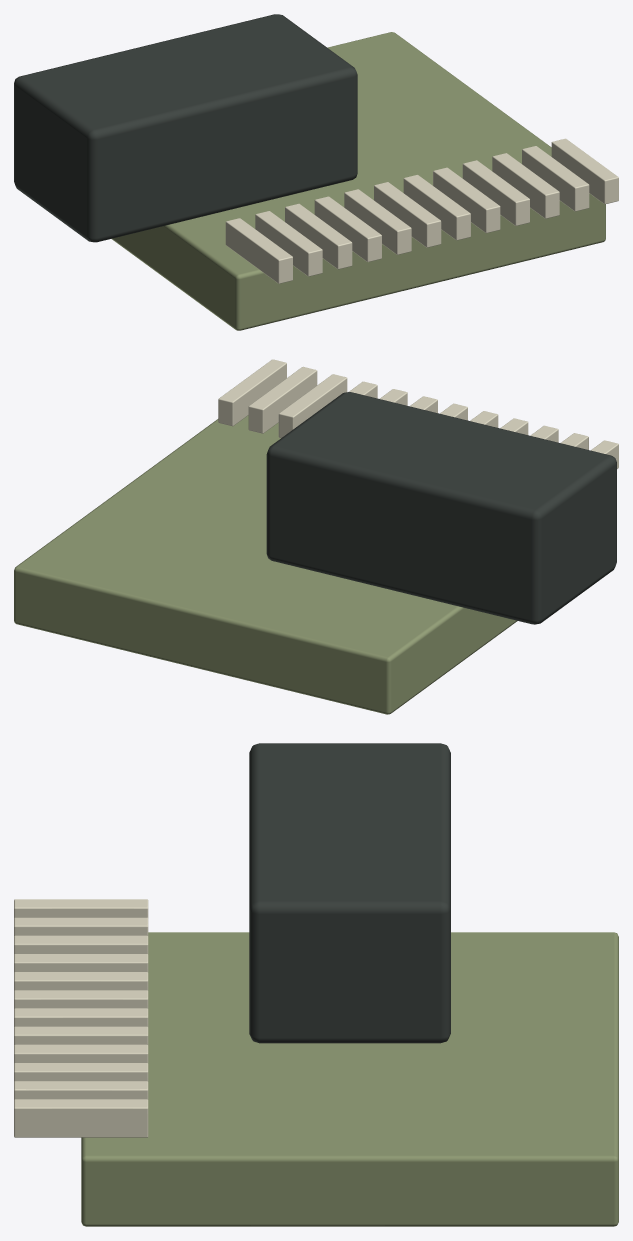
File: cpu.glb
3 renders of one model, top to bottom at view 1: azimuth 30°, elevation 25°; view 2: azimuth 150°, elevation 25°; view 3: azimuth 270°, elevation 25°, orthographic. The views are drawn at different scales.
Visible parts, largest first — view 1: processor-chip; view 2: processor-chip; view 3: processor-chip.
Part boxes in pixels (x1,y1,x2,y2): processor-chip: (14, 14, 618, 330); processor-chip: (14, 359, 618, 714); processor-chip: (14, 743, 618, 1226).
Size of the model in its own units: 0.0583 by 0.021 by 0.054.
